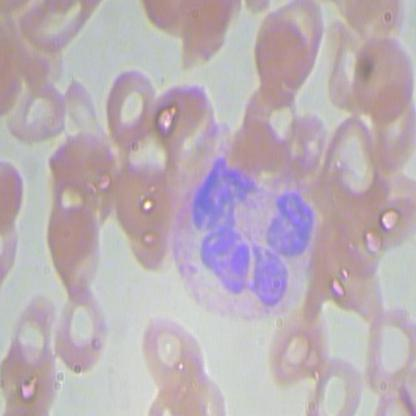RBC: (313, 113, 386, 200), (44, 124, 119, 204), (50, 291, 119, 377), (41, 206, 110, 292), (139, 314, 208, 400), (347, 34, 415, 120), (149, 79, 223, 151), (169, 1, 243, 72), (252, 10, 313, 96), (111, 152, 172, 238), (100, 64, 160, 151), (355, 169, 415, 256), (1, 288, 57, 378), (269, 305, 329, 386), (239, 77, 302, 153), (361, 308, 415, 395), (7, 73, 68, 140), (2, 352, 62, 415), (304, 357, 369, 415)
WBC: (169, 153, 319, 326)
